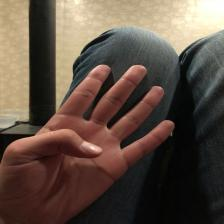four: (13, 62, 177, 207)
